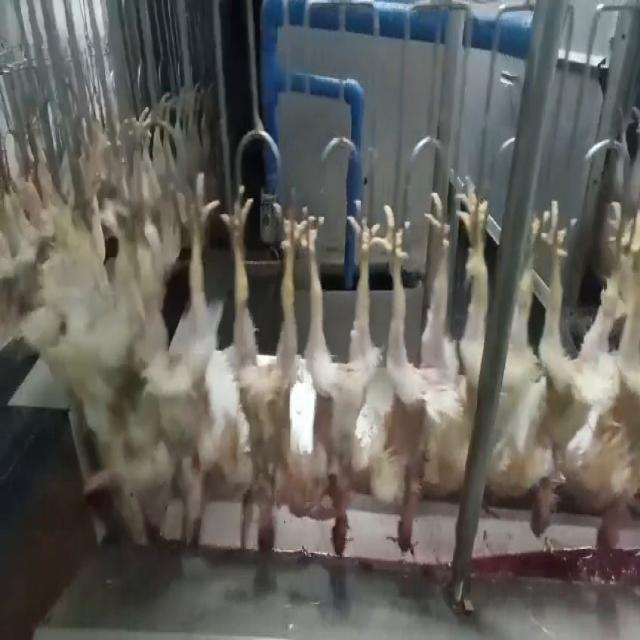chicken: (524, 198, 630, 539), (366, 192, 458, 556), (218, 194, 305, 560), (303, 198, 379, 557), (154, 160, 219, 551), (93, 168, 154, 544), (584, 197, 639, 561), (449, 172, 502, 440)
